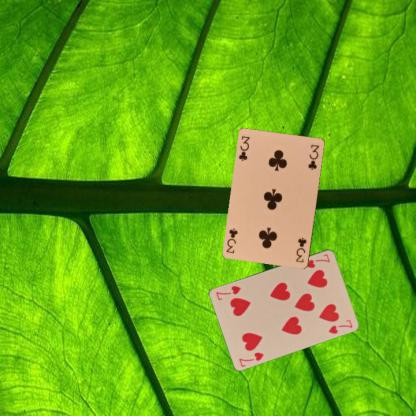3c: (236, 134, 252, 162), (293, 235, 308, 264)
7h: (236, 350, 266, 368), (303, 251, 331, 269)
